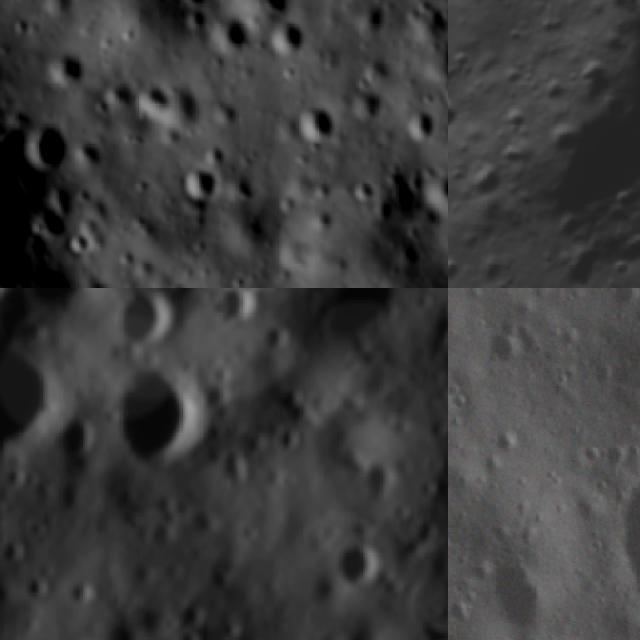crater: (86, 350, 226, 490), (295, 288, 423, 367), (0, 341, 66, 470), (103, 288, 192, 370), (479, 553, 554, 639), (610, 470, 640, 625), (5, 288, 100, 334), (321, 534, 386, 600), (345, 450, 408, 513), (44, 409, 102, 476), (205, 288, 269, 342), (459, 154, 515, 212), (202, 443, 259, 499), (535, 116, 589, 170), (481, 322, 537, 374), (254, 314, 302, 368), (176, 504, 225, 556), (528, 71, 574, 119), (568, 54, 612, 96), (265, 420, 308, 462), (492, 99, 534, 141), (548, 204, 590, 246), (14, 572, 54, 616), (26, 124, 64, 170), (61, 575, 103, 616), (180, 164, 222, 201), (0, 535, 34, 578), (274, 17, 311, 55), (297, 105, 334, 142), (347, 179, 387, 211), (137, 84, 174, 117), (613, 227, 640, 270), (45, 55, 85, 84), (604, 182, 638, 216), (348, 81, 380, 115), (474, 256, 508, 288), (425, 172, 448, 215), (448, 88, 466, 140), (604, 0, 640, 25), (448, 46, 477, 77), (223, 20, 250, 53), (448, 252, 472, 288), (406, 114, 444, 136), (164, 625, 210, 640), (184, 11, 215, 33), (66, 236, 92, 262), (76, 182, 98, 210), (67, 275, 105, 288)
